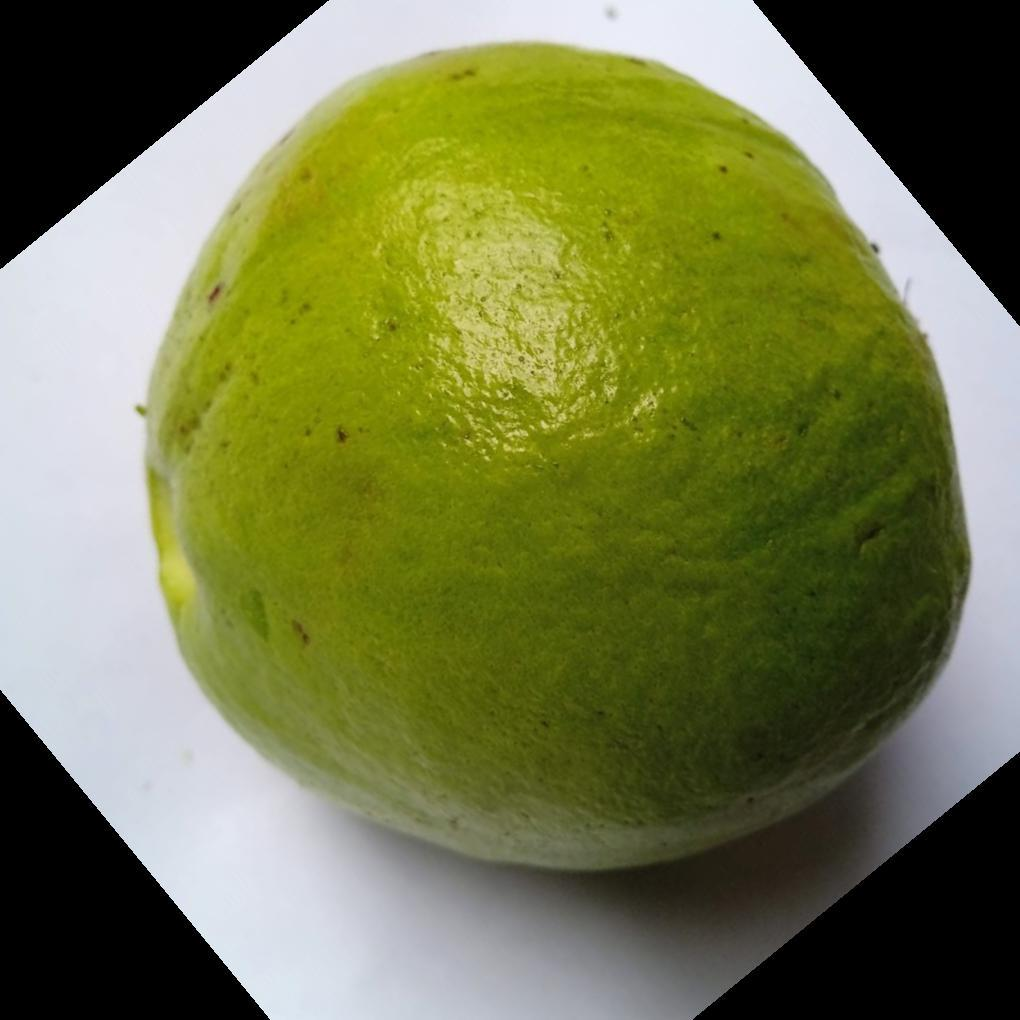FreshGuava: (138, 43, 975, 879)
